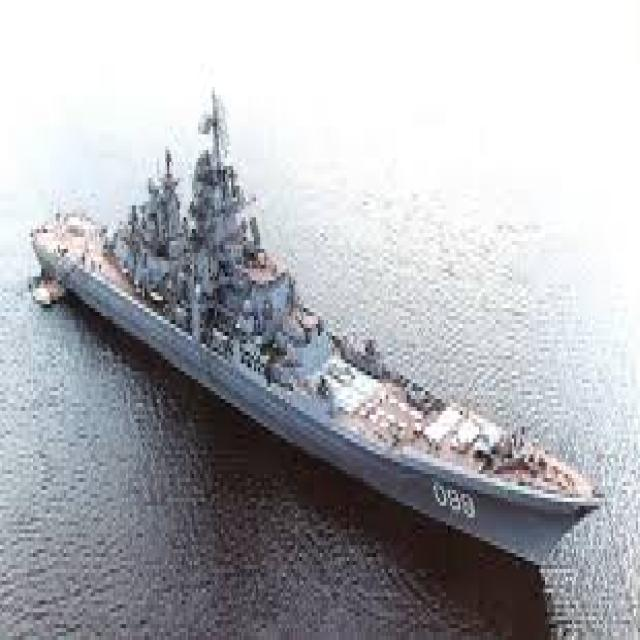navalvessels: (37, 67, 607, 571)
